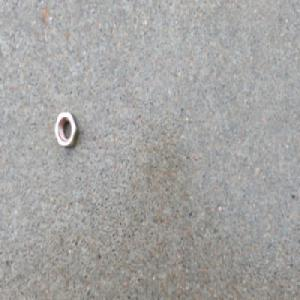Nut: (53, 110, 79, 149)
